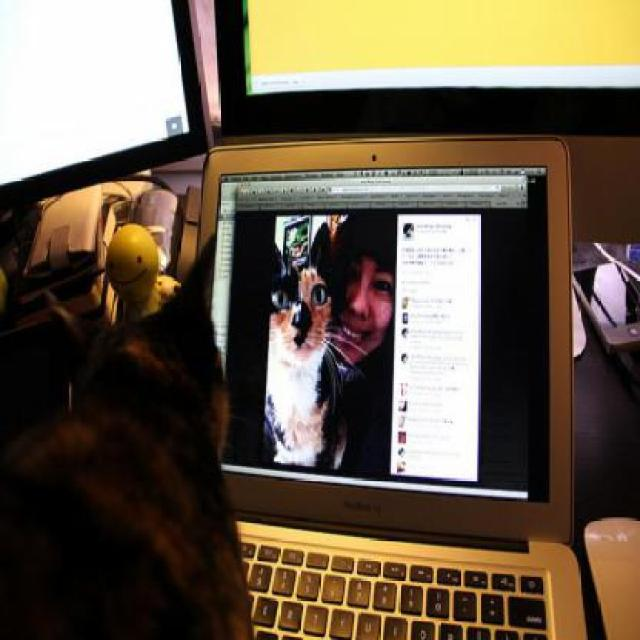Person: (331, 215, 398, 479)
